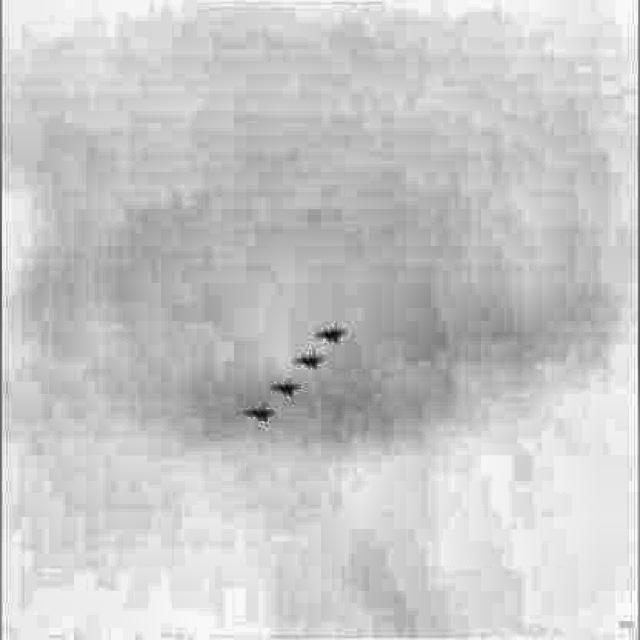Su57: (315, 322, 347, 346), (242, 403, 275, 423), (268, 378, 301, 398), (292, 350, 326, 368)
